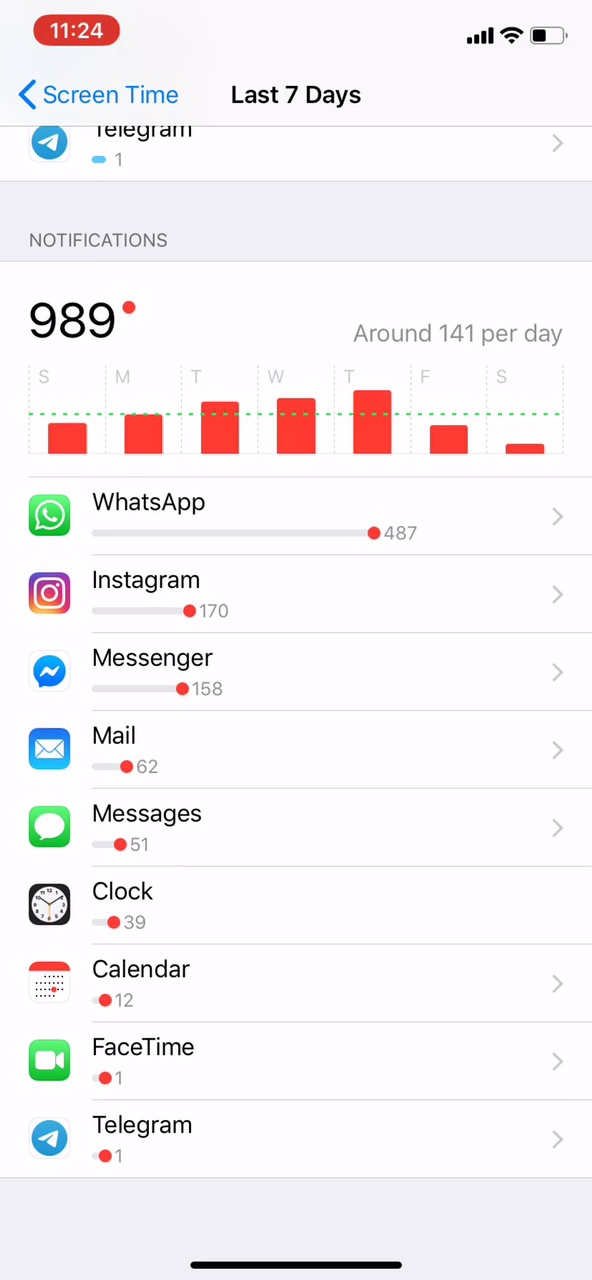not_app: (17, 472, 442, 550), (14, 1022, 250, 1099), (18, 632, 272, 703), (17, 553, 264, 625), (15, 796, 253, 864), (11, 1107, 237, 1175), (11, 955, 231, 1019), (17, 713, 215, 783), (15, 875, 201, 941)
not_over: (1, 202, 201, 353)
week: (221, 79, 374, 116)
